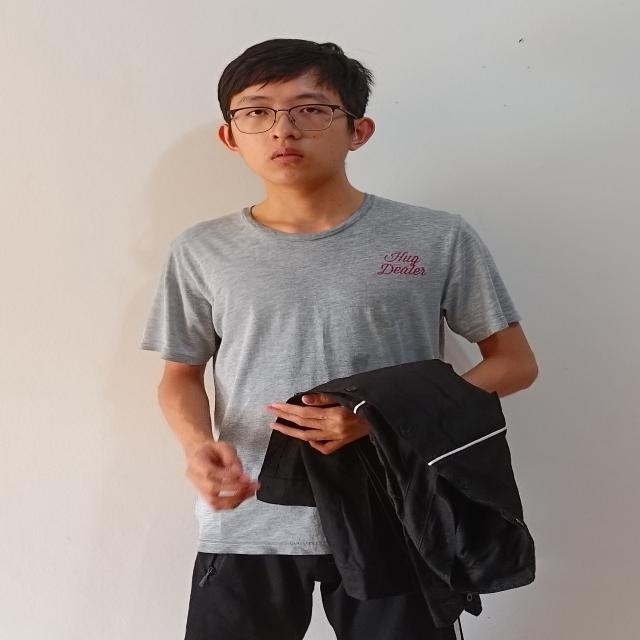person_without_labcoat: (142, 41, 536, 640)
